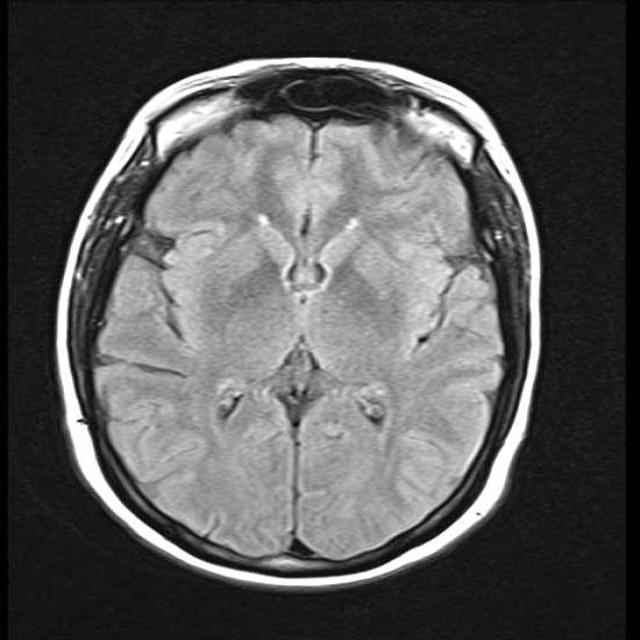No_Tumor: (56, 59, 539, 589)
